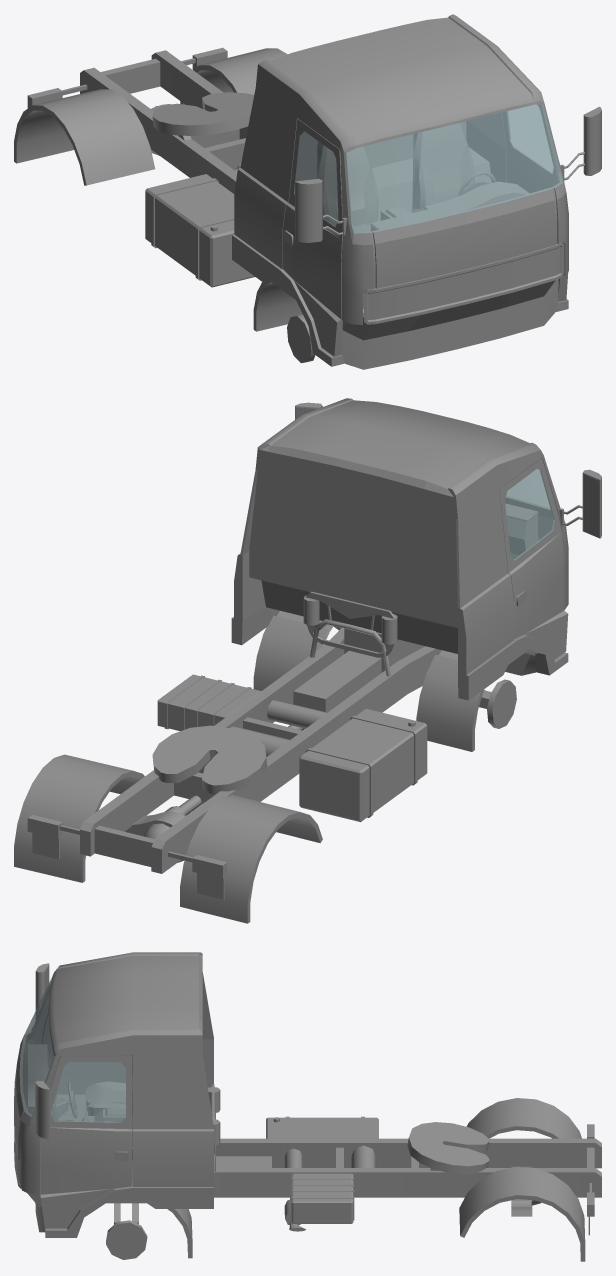
Rendered from Truck_2.FBX.
3 renders of one model, top to bottom at view 1: azimuth 30°, elevation 25°; view 2: azimuth 150°, elevation 25°; view 3: azimuth 270°, elevation 25°, orthographic. The views are drawn at different scales.
Visible parts, largest first — view 1: Truck_2_Body, Truck_2_Roof, Truck_2_Window_F, Truck_2_Door_FR, Truck_2_Door_FL, Truck_2_Door_Window_FR, Truck_2_Beck, Truck_2_Door_Window_FL; view 2: Truck_2_Body, Truck_2_Beck, Truck_2_Roof, Truck_2_Door_FR, Truck_2_Door_Window_FR, Truck_2_Window_F; view 3: Truck_2_Body, Truck_2_Roof, Truck_2_Door_FL, Truck_2_Door_Window_FL, Truck_2_Window_F, Truck_2_Door_FR.
Boxes of the visible parts, x1=… form: Truck_2_Body: x1=14, y1=47, x2=601, y2=369; Truck_2_Roof: x1=255, y1=14, x2=543, y2=152; Truck_2_Window_F: x1=346, y1=104, x2=563, y2=233; Truck_2_Door_FR: x1=282, y1=118, x2=342, y2=356; Truck_2_Door_FL: x1=502, y1=104, x2=568, y2=301; Truck_2_Door_Window_FR: x1=294, y1=131, x2=338, y2=226; Truck_2_Beck: x1=296, y1=121, x2=466, y2=180; Truck_2_Door_Window_FL: x1=508, y1=105, x2=553, y2=172; Truck_2_Body: x1=14, y1=402, x2=601, y2=923; Truck_2_Beck: x1=249, y1=450, x2=457, y2=626; Truck_2_Roof: x1=255, y1=398, x2=543, y2=518; Truck_2_Door_FR: x1=499, y1=458, x2=568, y2=659; Truck_2_Door_Window_FR: x1=505, y1=468, x2=554, y2=560; Truck_2_Window_F: x1=507, y1=469, x2=549, y2=507; Truck_2_Body: x1=14, y1=963, x2=601, y2=1261; Truck_2_Roof: x1=48, y1=952, x2=202, y2=1057; Truck_2_Door_FL: x1=40, y1=1056, x2=132, y2=1228; Truck_2_Door_Window_FL: x1=51, y1=1061, x2=125, y2=1122; Truck_2_Window_F: x1=19, y1=977, x2=53, y2=1116; Truck_2_Door_FR: x1=42, y1=1012, x2=130, y2=1094.
Bounding box in the file's own units: 3557 × 3001 × 7008.
